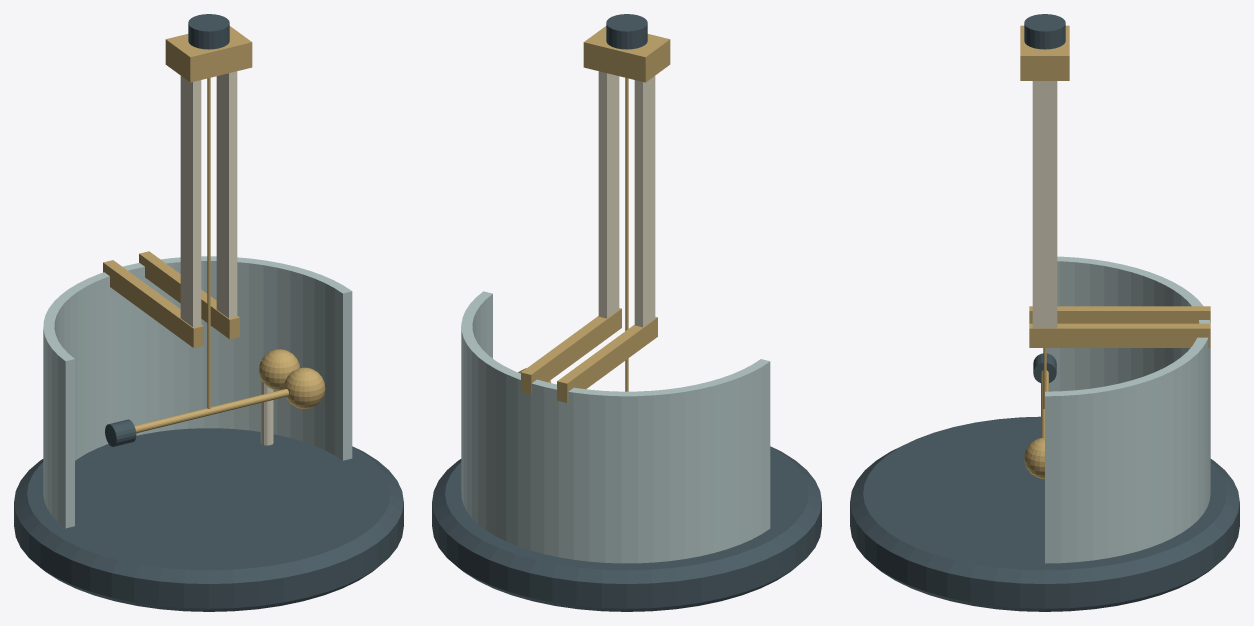
The picture shows the model from 3 angles, left to right: view 1: azimuth 30°, elevation 25°; view 2: azimuth 150°, elevation 25°; view 3: azimuth 270°, elevation 25°; orthographic projection.
Visible parts, largest first — view 1: WholeBroadRoundBase, WholeCutawayChamberWall, WholeSuspensionTowerSide0, WholeSuspensionTowerSide1, WholeUpperTowerHead, WholeRearRoofBridge0, WholeRearRoofBridge1, WholeBlankUpperAdjustmentCap, WholeSuspendedTerminalBall, WholeContinuousVerticalSuspension, WholeSuspendedCrossRod, WholeIndependentFixedBall (+2 smaller); view 2: WholeCutawayChamberWall, WholeBroadRoundBase, WholeSuspensionTowerSide0, WholeSuspensionTowerSide1, WholeUpperTowerHead, WholeRearRoofBridge1, WholeRearRoofBridge0, WholeBlankUpperAdjustmentCap, WholeContinuousVerticalSuspension; view 3: WholeBroadRoundBase, WholeCutawayChamberWall, WholeSuspensionTowerSide1, WholeRearRoofBridge1, WholeRearRoofBridge0, WholeUpperTowerHead, WholeBlankUpperAdjustmentCap, WholeSuspendedTerminalBall.
Part boxes in pixels (<box>): WholeBroadRoundBase: <box>14,428,403,611</box>; WholeCutawayChamberWall: <box>43,256,352,528</box>; WholeSuspensionTowerSide0: <box>180,76,201,327</box>; WholeSuspensionTowerSide1: <box>216,71,237,318</box>; WholeUpperTowerHead: <box>165,26,252,82</box>; WholeRearRoofBridge0: <box>103,260,203,347</box>; WholeRearRoofBridge1: <box>139,251,239,339</box>; WholeBlankUpperAdjustmentCap: <box>188,14,229,49</box>; WholeSuspendedTerminalBall: <box>284,367,325,408</box>; WholeContinuousVerticalSuspension: <box>207,77,210,409</box>; WholeSuspendedCrossRod: <box>134,389,288,433</box>; WholeIndependentFixedBall: <box>259,349,299,390</box>; WholeCutawayChamberWall: <box>461,291,770,563</box>; WholeBroadRoundBase: <box>432,446,821,611</box>; WholeSuspensionTowerSide0: <box>634,76,655,327</box>; WholeSuspensionTowerSide1: <box>598,71,619,318</box>; WholeUpperTowerHead: <box>583,26,670,82</box>; WholeRearRoofBridge1: <box>521,308,621,394</box>; WholeRearRoofBridge0: <box>557,317,657,402</box>; WholeBlankUpperAdjustmentCap: <box>606,14,647,49</box>; WholeContinuousVerticalSuspension: <box>625,77,628,391</box>; WholeBroadRoundBase: <box>850,416,1239,611</box>; WholeCutawayChamberWall: <box>1045,256,1210,563</box>; WholeSuspensionTowerSide1: <box>1032,81,1057,328</box>; WholeRearRoofBridge1: <box>1029,323,1210,347</box>; WholeRearRoofBridge0: <box>1029,306,1210,323</box>; WholeUpperTowerHead: <box>1020,25,1069,80</box>; WholeBlankUpperAdjustmentCap: <box>1024,14,1065,49</box>; WholeSuspendedTerminalBall: <box>1024,437,1044,478</box>.
Bounding box in the file's own units: 0.6 × 0.8655 × 0.6.
